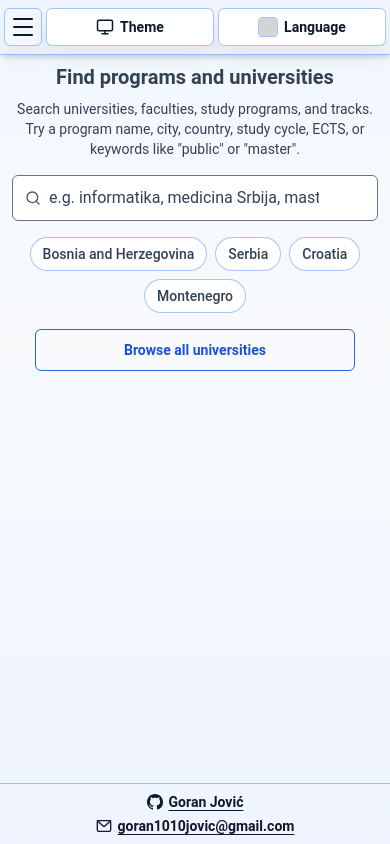
Root component - Menu interaction › closes menu when main content is clicked
Click the button named "Toggle navigation menu": point(23, 27) 4,8 -> 42,46
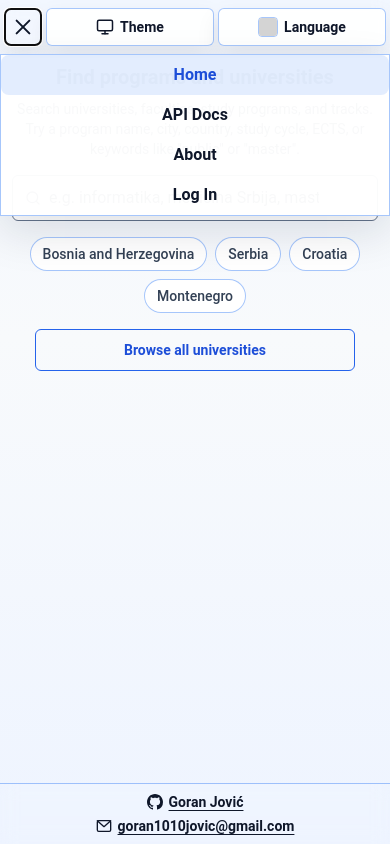
Now the button named "Toggle navigation menu" is expanded, box 4,8 -> 42,46
Click the element that starts with "Find programs and universities": point(195, 218) 12,65 -> 378,371
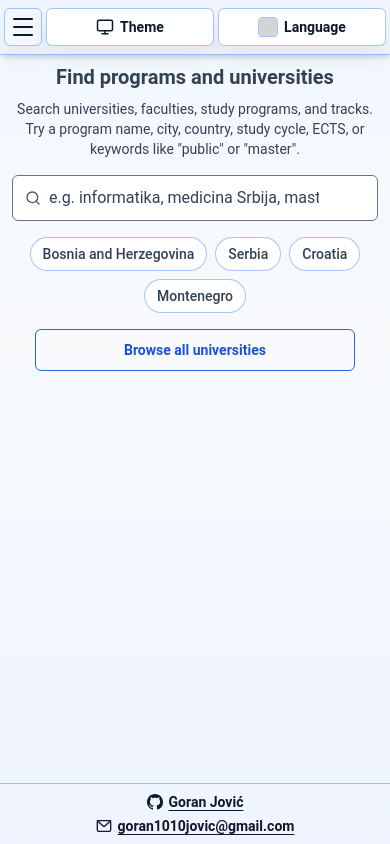
Now the button named "Toggle navigation menu" is collapsed, box 4,8 -> 42,46
